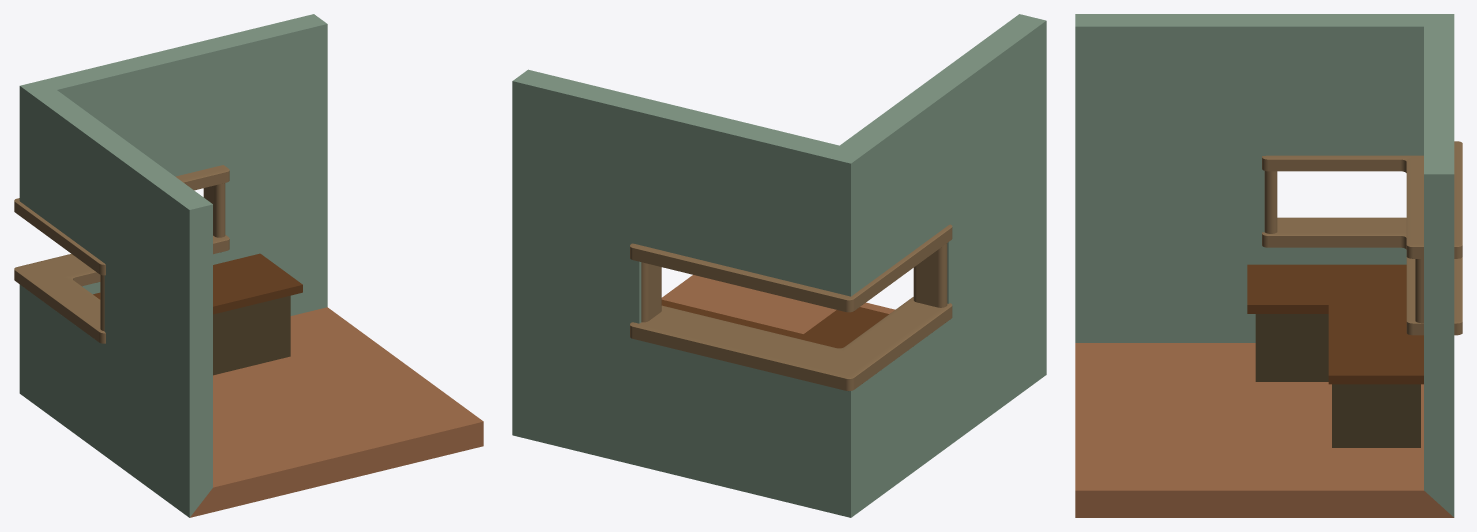
The model's file is House.fbx.
3 renders of one model, left to right at view 1: azimuth 30°, elevation 25°; view 2: azimuth 150°, elevation 25°; view 3: azimuth 270°, elevation 25°, orthographic. The views are drawn at different scales.
Visible parts, largest first — view 1: Room, Table, WindowFrame; view 2: Room, WindowFrame, Table; view 3: Room, Table, WindowFrame.
Boxes of the visible parts, x1,y1,x2,y2 form: Room: (19, 14, 483, 517); Table: (93, 253, 302, 375); WindowFrame: (14, 165, 229, 343); Room: (512, 14, 1046, 517); WindowFrame: (630, 224, 952, 391); Table: (661, 299, 888, 348); Room: (1075, 14, 1454, 517); Table: (1247, 264, 1423, 447); WindowFrame: (1262, 141, 1462, 335).
Size of the model in its own units: 203 by 200 by 204.
